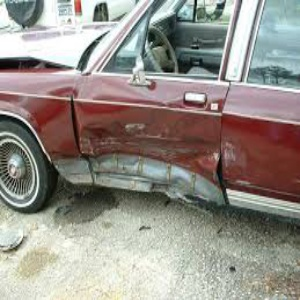door: (81, 123, 273, 182)
